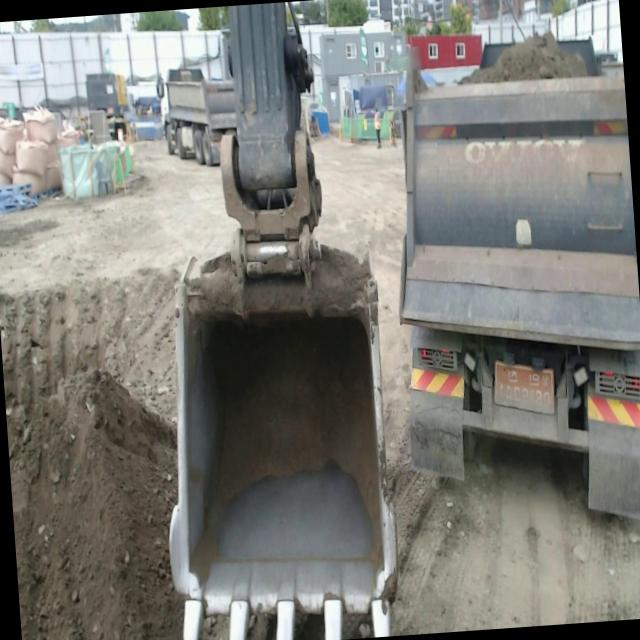red-sand: (312, 136, 640, 636), (0, 140, 235, 640), (121, 482, 127, 491)
